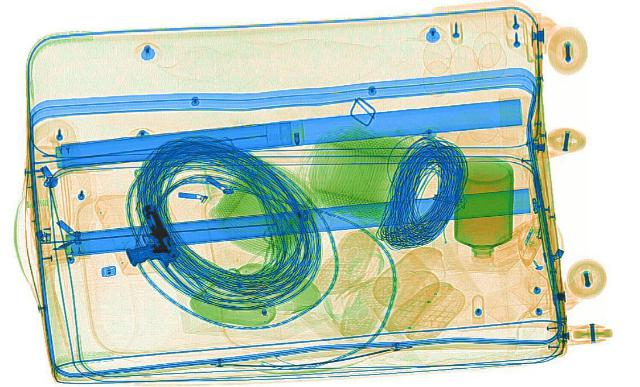Gun: (114, 203, 182, 270)
